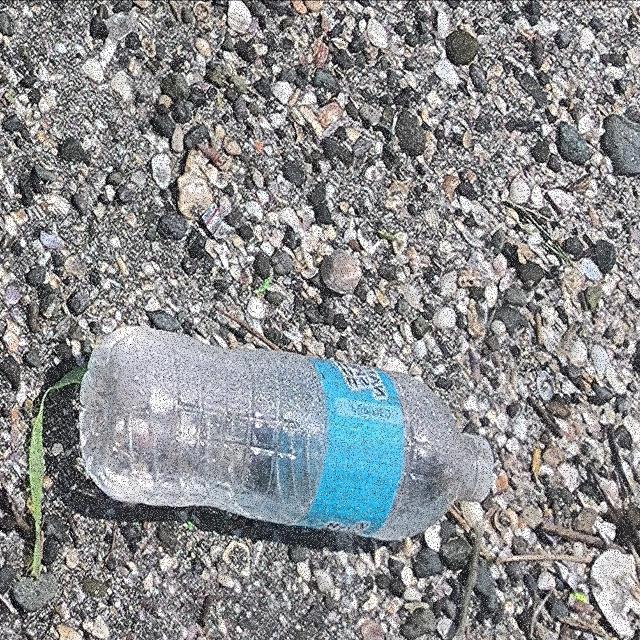plastic_waste: (78, 322, 496, 544)
